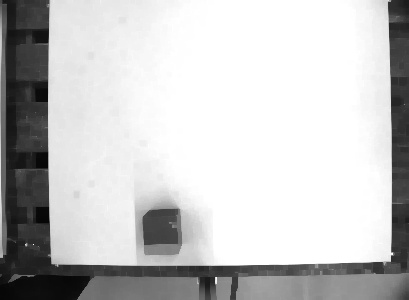b7: (138, 207, 184, 257)
